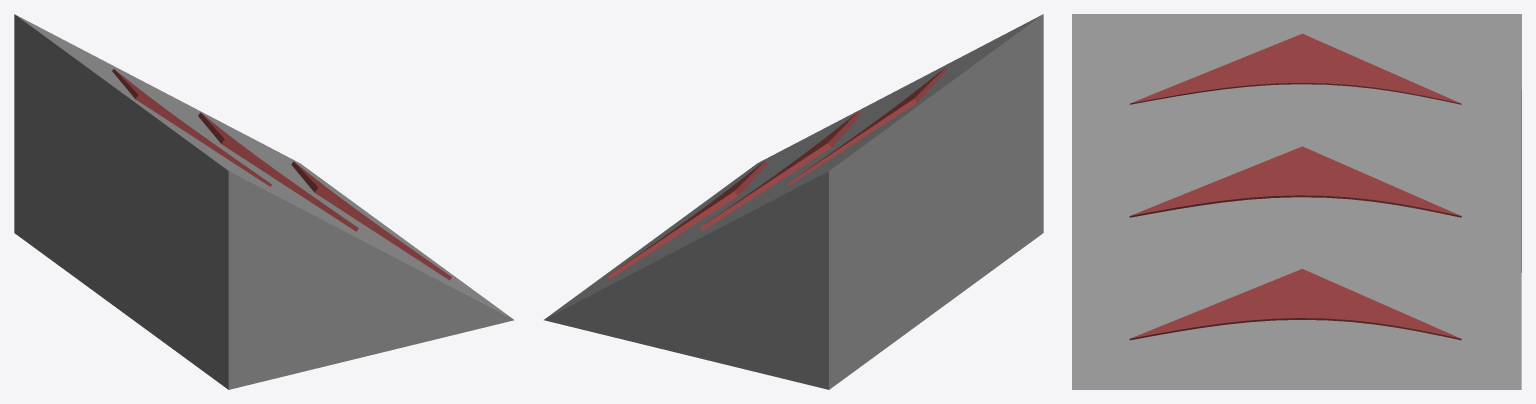
File: qiao04.fbx
3 views of the same model, side by side, from view 1: azimuth 30°, elevation 25°; view 2: azimuth 150°, elevation 25°; view 3: azimuth 270°, elevation 25° (orthographic). The views are drawn at different scales.
Parts seen in each view (by area): view 1: 对象011; view 2: 对象011; view 3: 对象011.
Boxes of the visible parts, x1,y1,x2,y2 form: 对象011: (14, 14, 514, 389); 对象011: (544, 14, 1043, 389); 对象011: (1072, 14, 1521, 389).
Size of the model in its own units: 419 by 306 by 544.
